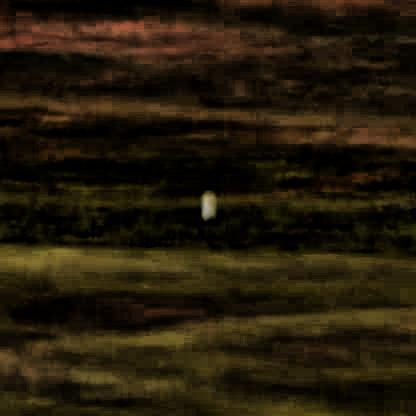golfball: (199, 187, 215, 215)
